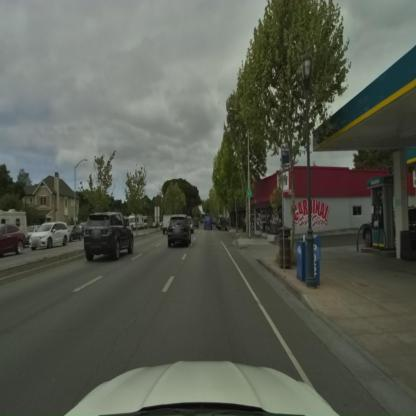car: (82, 212, 134, 262), (28, 222, 70, 251), (0, 221, 28, 261), (166, 214, 194, 248), (216, 209, 230, 233), (70, 225, 85, 243), (203, 211, 213, 232)
